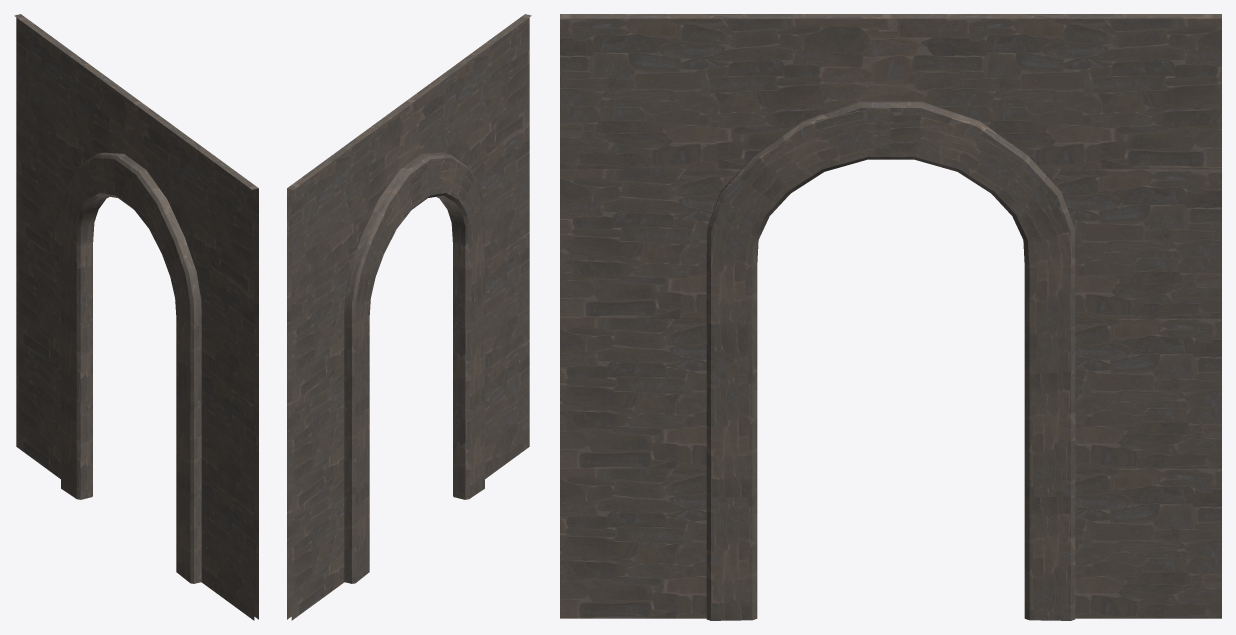
Rendered from 3x3DoorWall.fbx.
3 renders of one model, left to right at view 1: azimuth 30°, elevation 25°; view 2: azimuth 150°, elevation 25°; view 3: azimuth 270°, elevation 25°, orthographic. The views are drawn at different scales.
Parts seen in each view (by area): view 1: WallDoor3x4; view 2: WallDoor3x4; view 3: WallDoor3x4.
Part boxes in pixels (x1,y1,x2,y2): WallDoor3x4: (14, 14, 258, 620); WallDoor3x4: (287, 14, 531, 620); WallDoor3x4: (560, 14, 1221, 620).
Bounding box in the file's own units: 15.19 × 300 × 300.
1 material, 1 textured.
